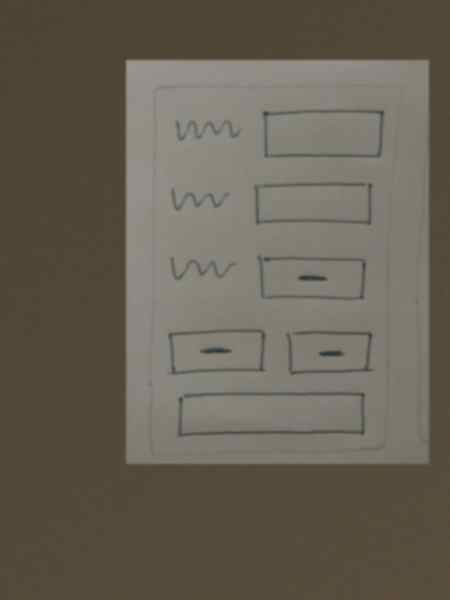button: (253, 249, 370, 304), (164, 326, 268, 377), (281, 326, 378, 378)
text: (166, 112, 249, 152), (160, 179, 243, 219), (161, 249, 244, 289)
text_input: (170, 387, 371, 442), (258, 104, 385, 163), (251, 174, 378, 232)
